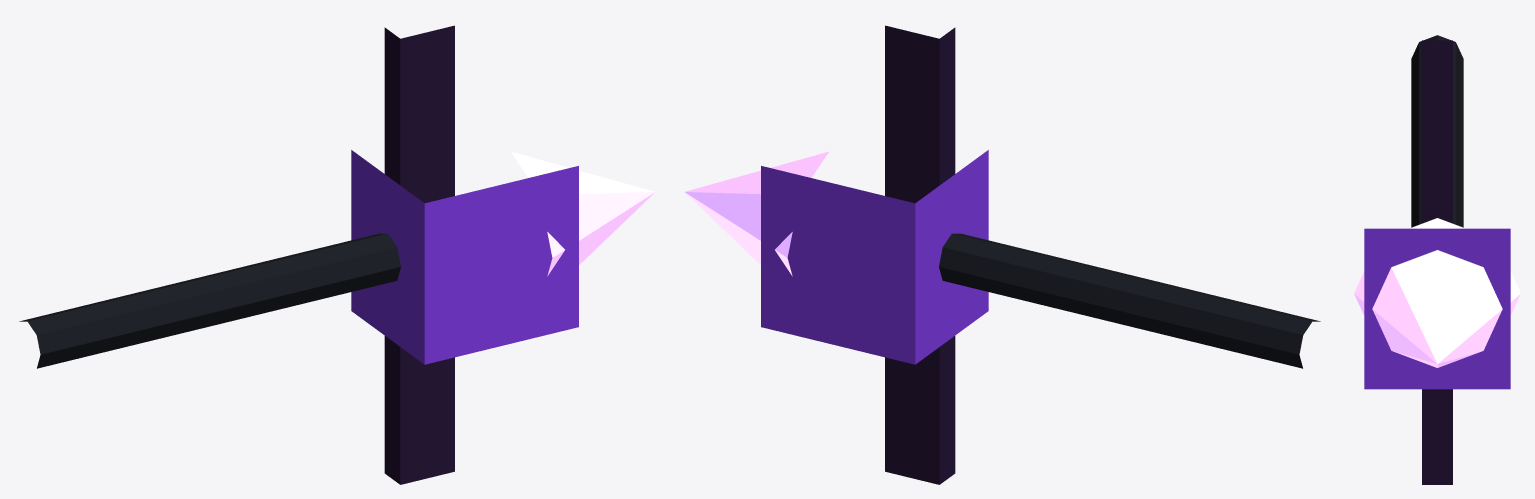
File: abyssal-blade.glb
The picture shows the model from 3 angles, left to right: view 1: azimuth 30°, elevation 25°; view 2: azimuth 150°, elevation 25°; view 3: azimuth 270°, elevation 25°; orthographic projection.
Parts seen in each view (by area): view 1: abyssal-blade-head-block, abyssal-blade-haft, abyssal-blade-side-blade-l, abyssal-blade-side-blade-r, abyssal-blade-void-spike; view 2: abyssal-blade-head-block, abyssal-blade-haft, abyssal-blade-side-blade-l, abyssal-blade-side-blade-r, abyssal-blade-void-spike; view 3: abyssal-blade-head-block, abyssal-blade-void-spike, abyssal-blade-side-blade-l, abyssal-blade-haft, abyssal-blade-side-blade-r.
Part boxes in pixels (x1,y1,x2,y2): abyssal-blade-head-block: (351,150,578,364); abyssal-blade-haft: (19,233,400,368); abyssal-blade-side-blade-l: (384,25,454,203); abyssal-blade-side-blade-r: (384,336,454,484); abyssal-blade-void-spike: (511,151,654,276); abyssal-blade-head-block: (761,150,988,364); abyssal-blade-haft: (939,233,1320,368); abyssal-blade-side-blade-l: (885,25,955,203); abyssal-blade-side-blade-r: (885,336,955,484); abyssal-blade-void-spike: (685,151,828,276); abyssal-blade-head-block: (1364,228,1510,389); abyssal-blade-void-spike: (1354,218,1520,367); abyssal-blade-side-blade-l: (1422,40,1452,223); abyssal-blade-haft: (1411,35,1463,227); abyssal-blade-side-blade-r: (1422,389,1452,484).
Bounding box in the file's own units: 1.39 × 0.94 × 0.32.
